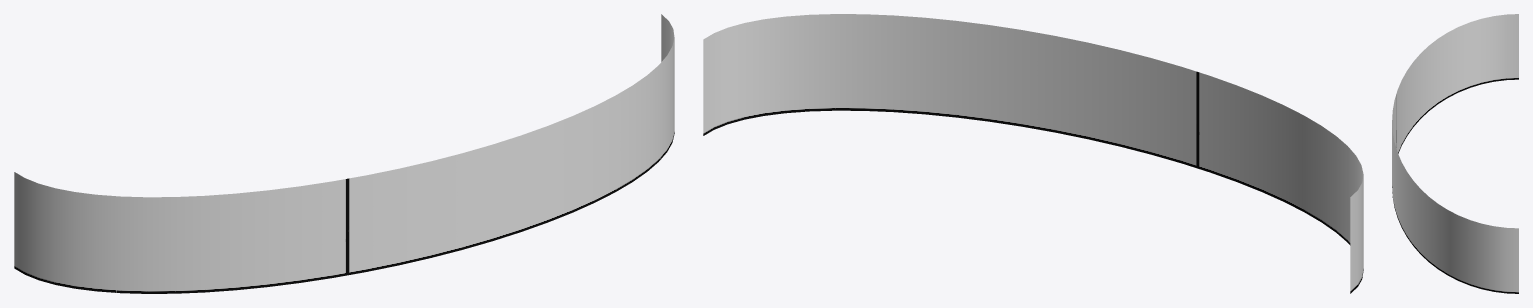
The model's file is Wall350x50xRout87cm.FBX.
3 renders of one model, left to right at view 1: azimuth 30°, elevation 25°; view 2: azimuth 150°, elevation 25°; view 3: azimuth 270°, elevation 25°, orthographic. The views are drawn at different scales.
Visible parts, largest first — view 1: Wall350x50xRout87cm; view 2: Wall350x50xRout87cm; view 3: Wall350x50xRout87cm.
Boxes of the visible parts, box(x1,y1,x2,y2) form: Wall350x50xRout87cm: box(14, 14, 674, 293); Wall350x50xRout87cm: box(703, 14, 1363, 293); Wall350x50xRout87cm: box(1392, 14, 1518, 293).
Bounding box in the file's own units: 350 × 50 × 87.5.
